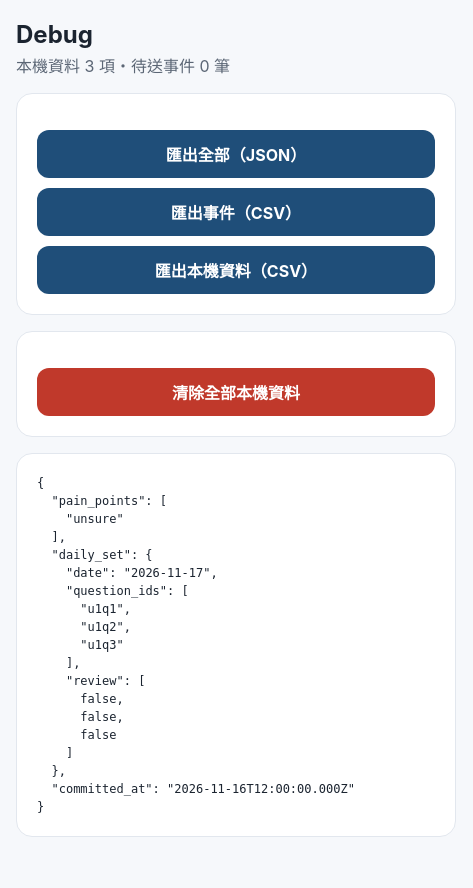
Test: 持久化與 #/debug › #/debug 清除資料要按兩次，清除後重新進入引導
Expected: the text with test id "debug-dump" shows "pain_points", [37,476,355,814]
Click the button "清除全部本機資料": (236, 392) [37,368,435,416]
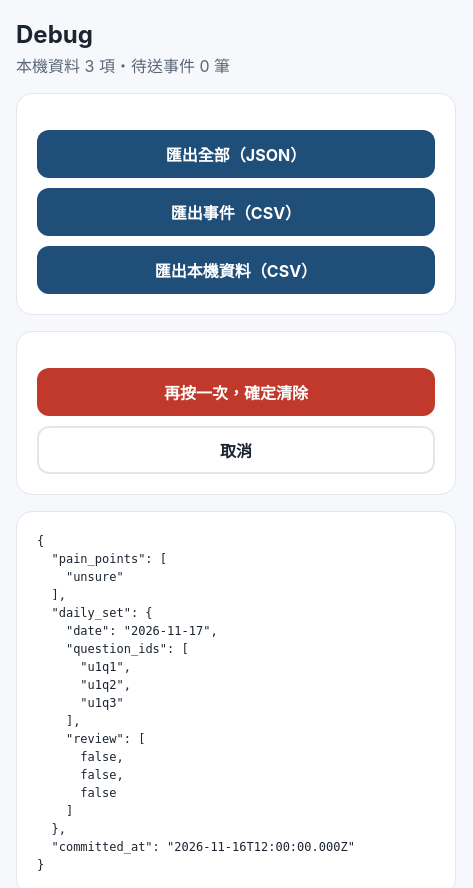
Click the button "再按一次，確定清除": (236, 392) [37,368,435,416]
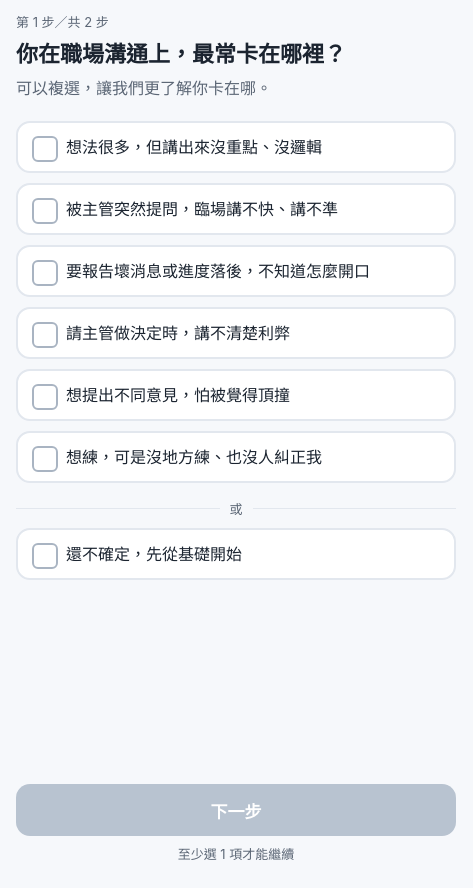
Result: the heading "你在職場溝通上，最常卡在哪裡？" is shown at [16,41,346,67]
